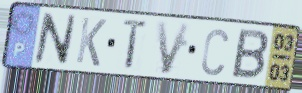B: (229, 27, 271, 82)
C: (199, 27, 230, 78)
K: (74, 15, 109, 70)
N: (32, 11, 79, 68)
T: (121, 17, 150, 72)
V: (155, 20, 193, 77)
